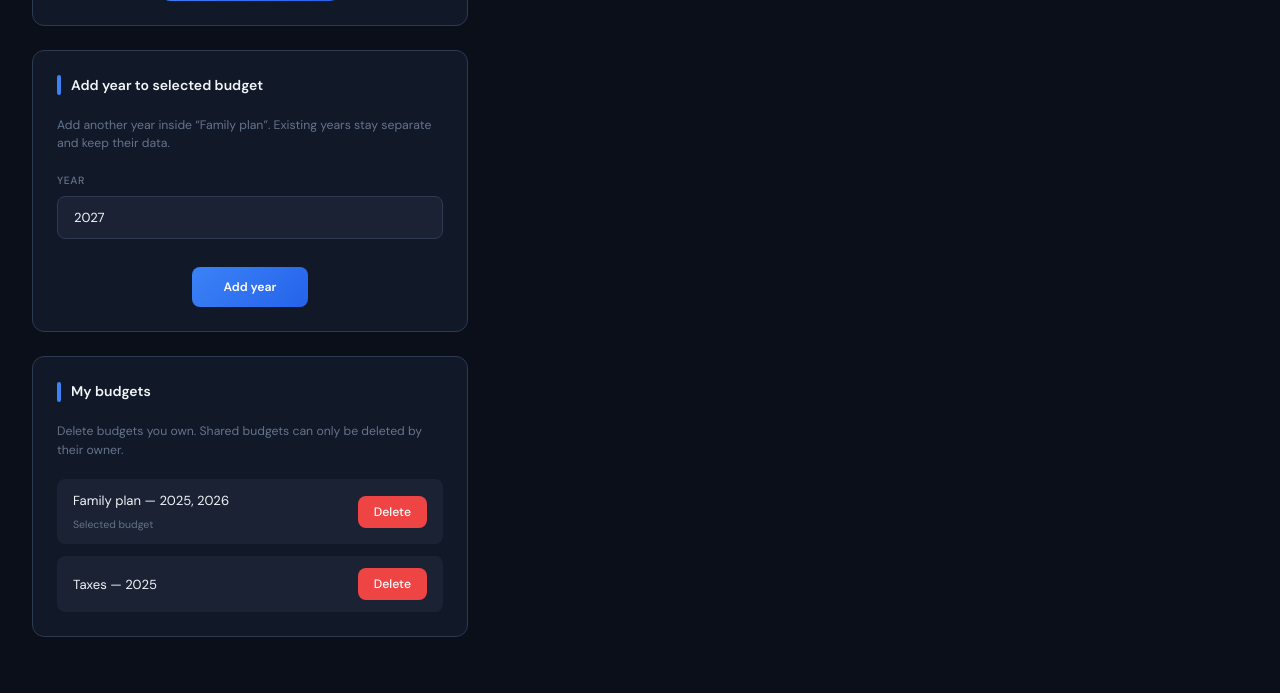
Test case: budget deletion settings › shows a success message after deleting a budget
(page scrolled)
Click the button "Delete" in the row of "Taxes — 2025" at (392, 584), box [358,568,427,600]
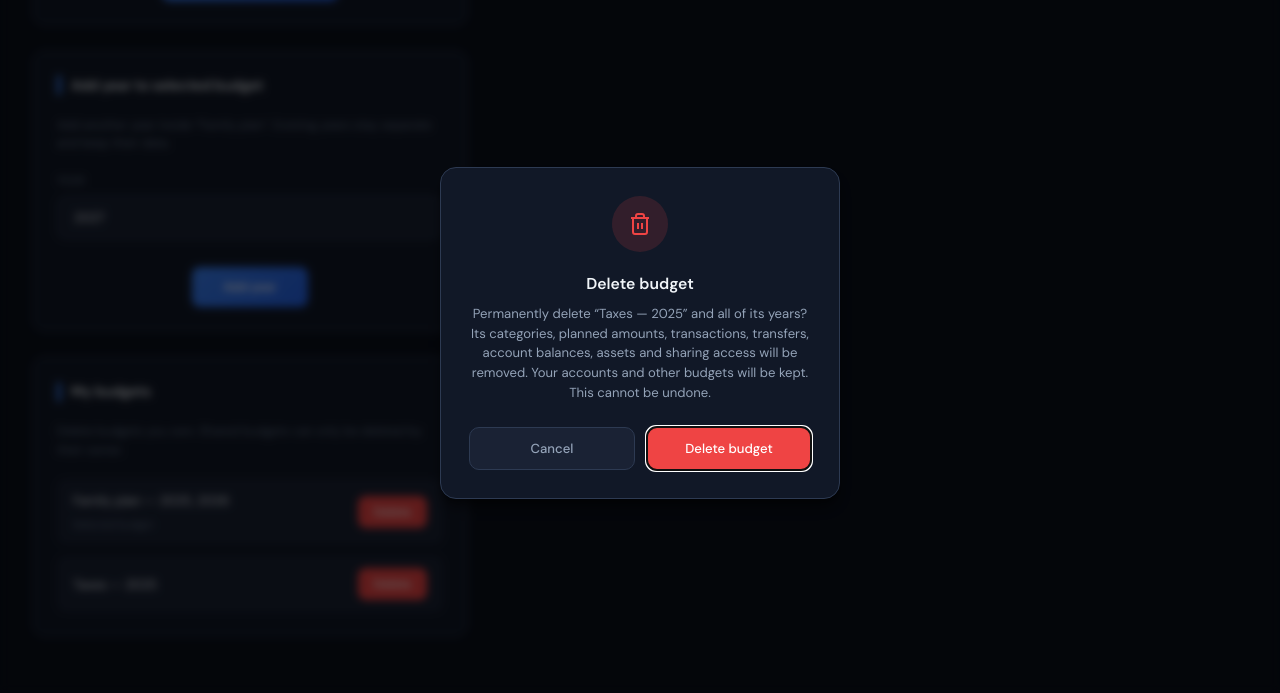
Click the button "Delete budget" at (729, 448), box [647,426,811,470]
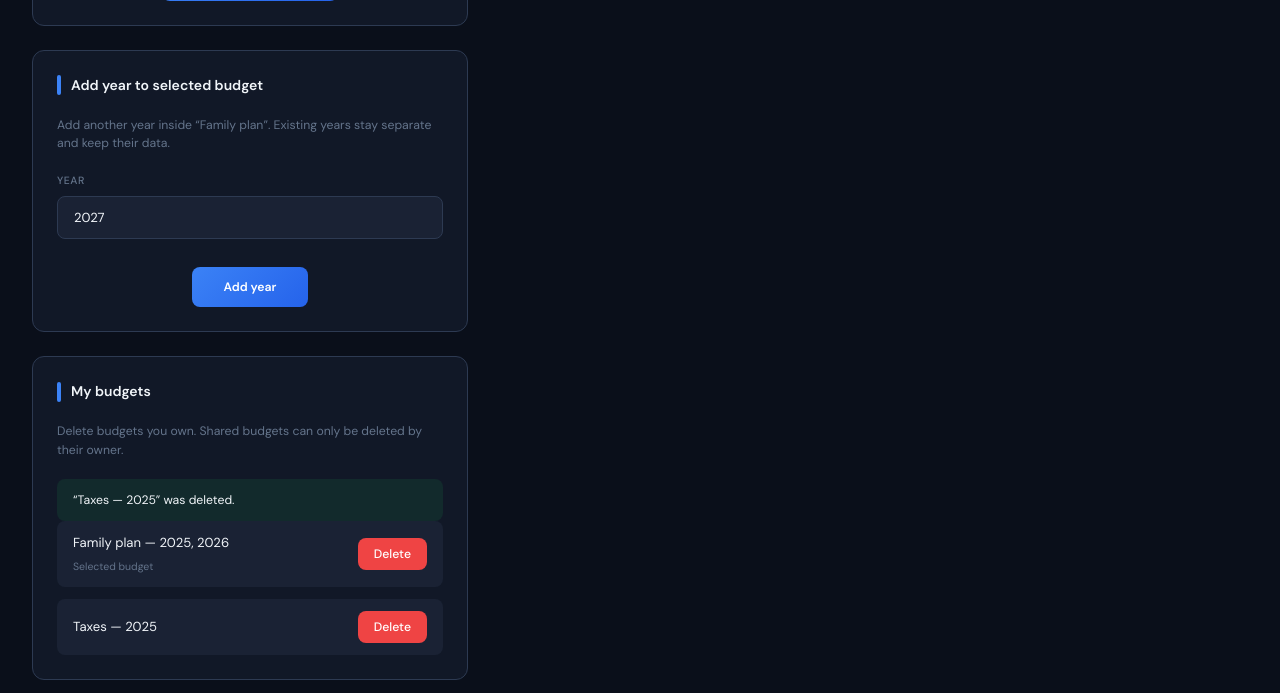
Expected: the message "“Taxes — 2025” was deleted." is shown, [57,479,443,521]
